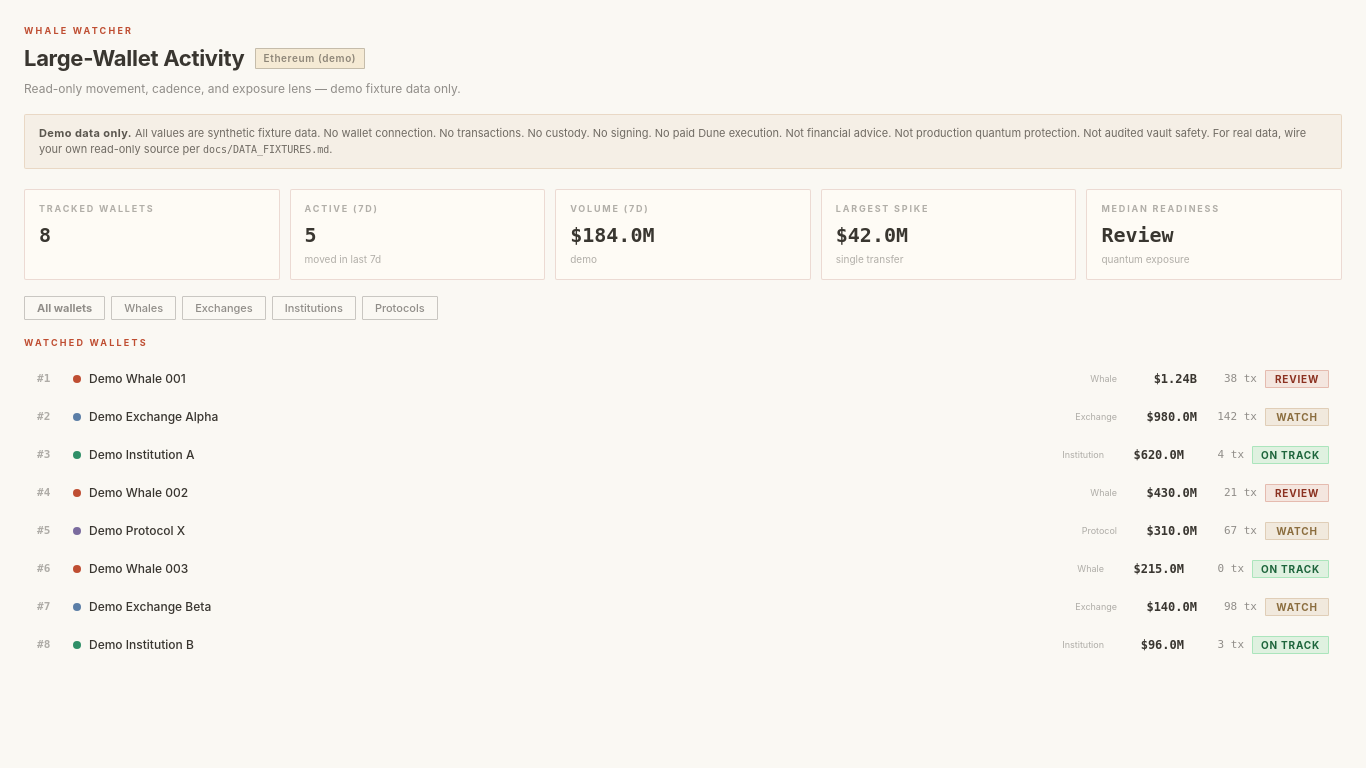
Test: Whale Watcher › shows wallet detail with cadence chart on row click
The width and height of the screenshot is (1366, 768).
Click the text "Demo Whale 001".
click(137, 379)  # box [89,371,186,386]
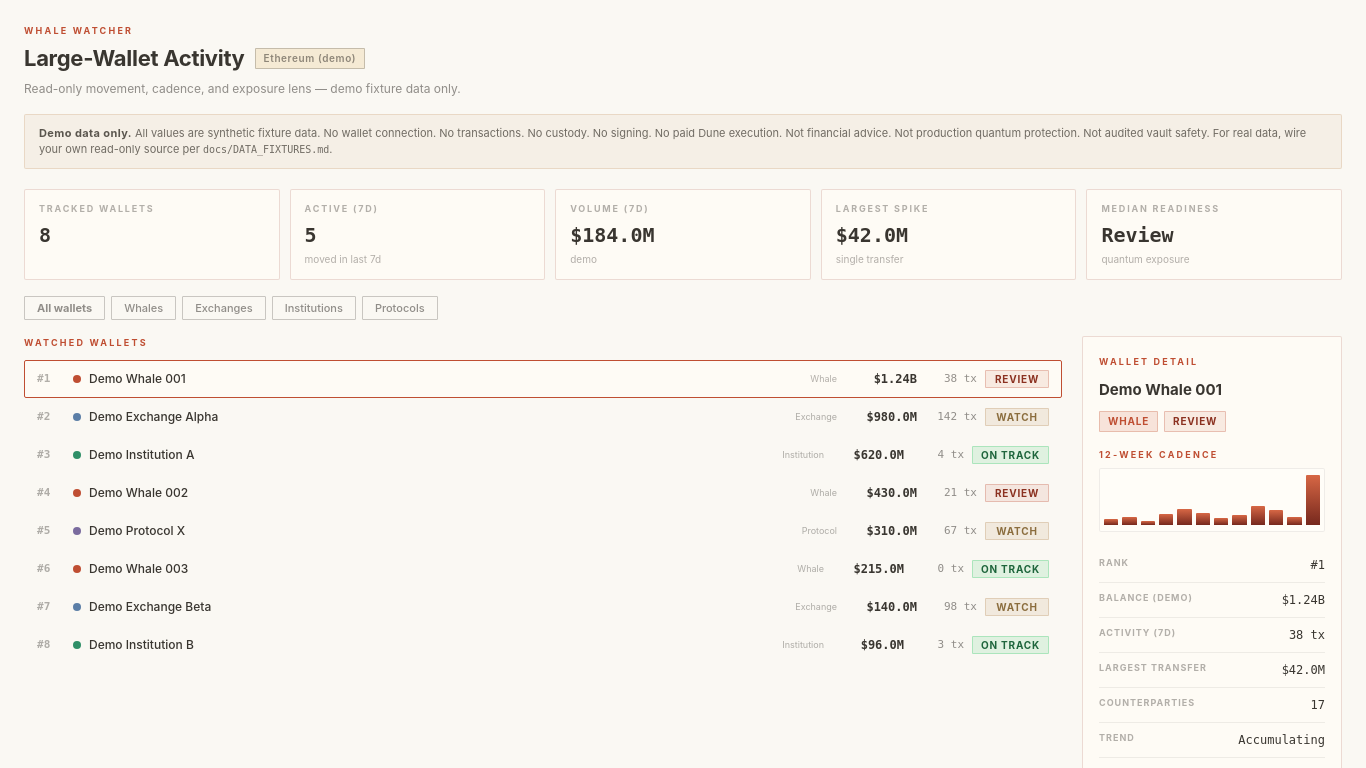
Now the element with test id "wallet-detail" is shown, box [1082,336,1342,767]
Now the element named "12-week activity cadence" is shown, box [1099,468,1325,532]
